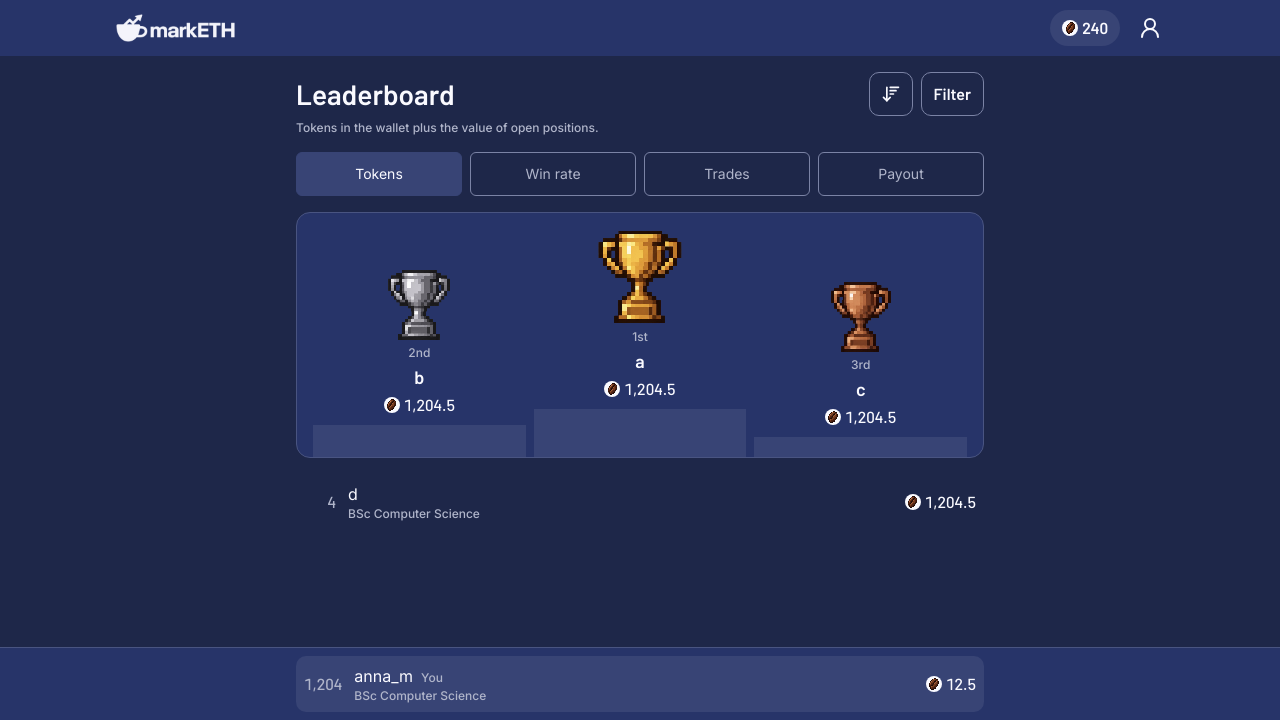
Test: the statistics of a player › the pinned row opens the viewer's own statistics, from the viewer row of the answer
The image size is (1280, 720).
Expected: the text "a" is shown, [635,350,645,372]
Click the button "1,204 anna_m You BSc Computer Science 12.5": (320, 682) [296,656,984,712]
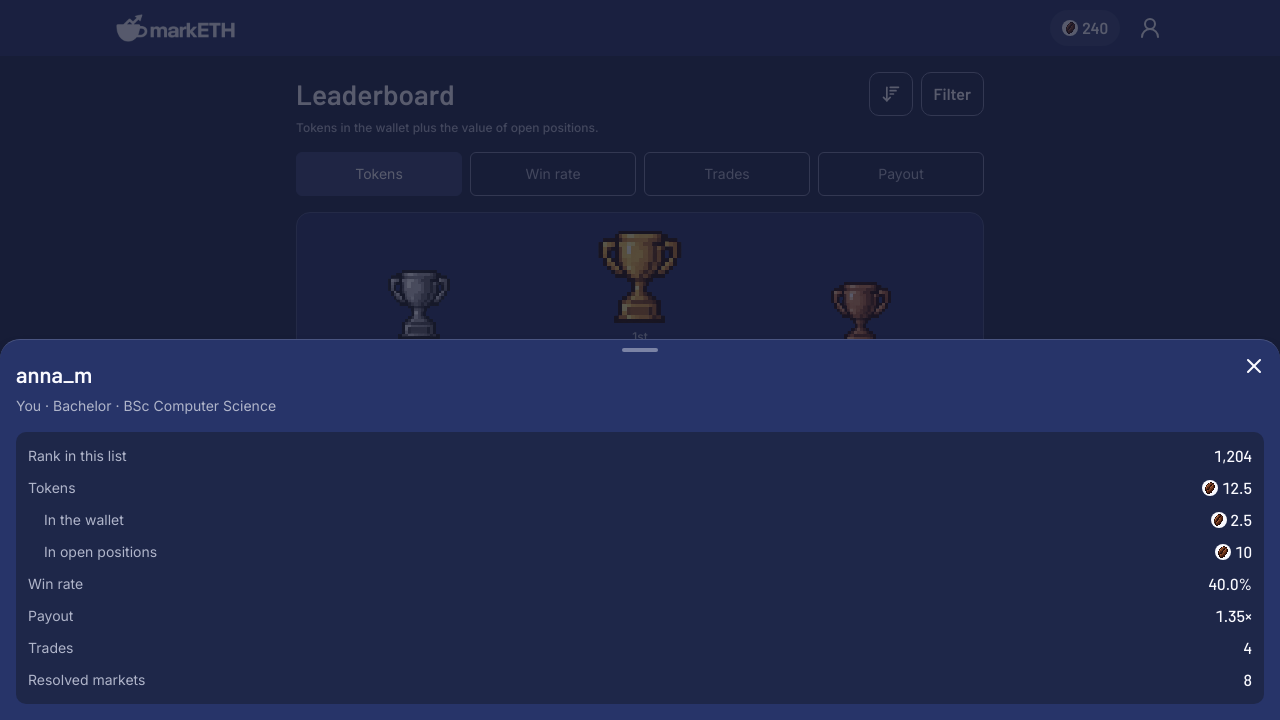
Expected: the text "1,204" is shown, [1214,444,1252,468]
Expected: the text "40.0%" is shown, [1209,572,1252,596]
